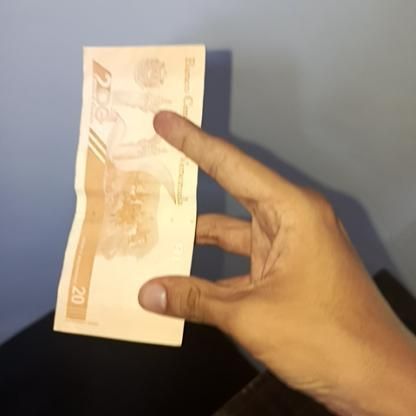twenty-back-vef: (54, 45, 206, 352)
